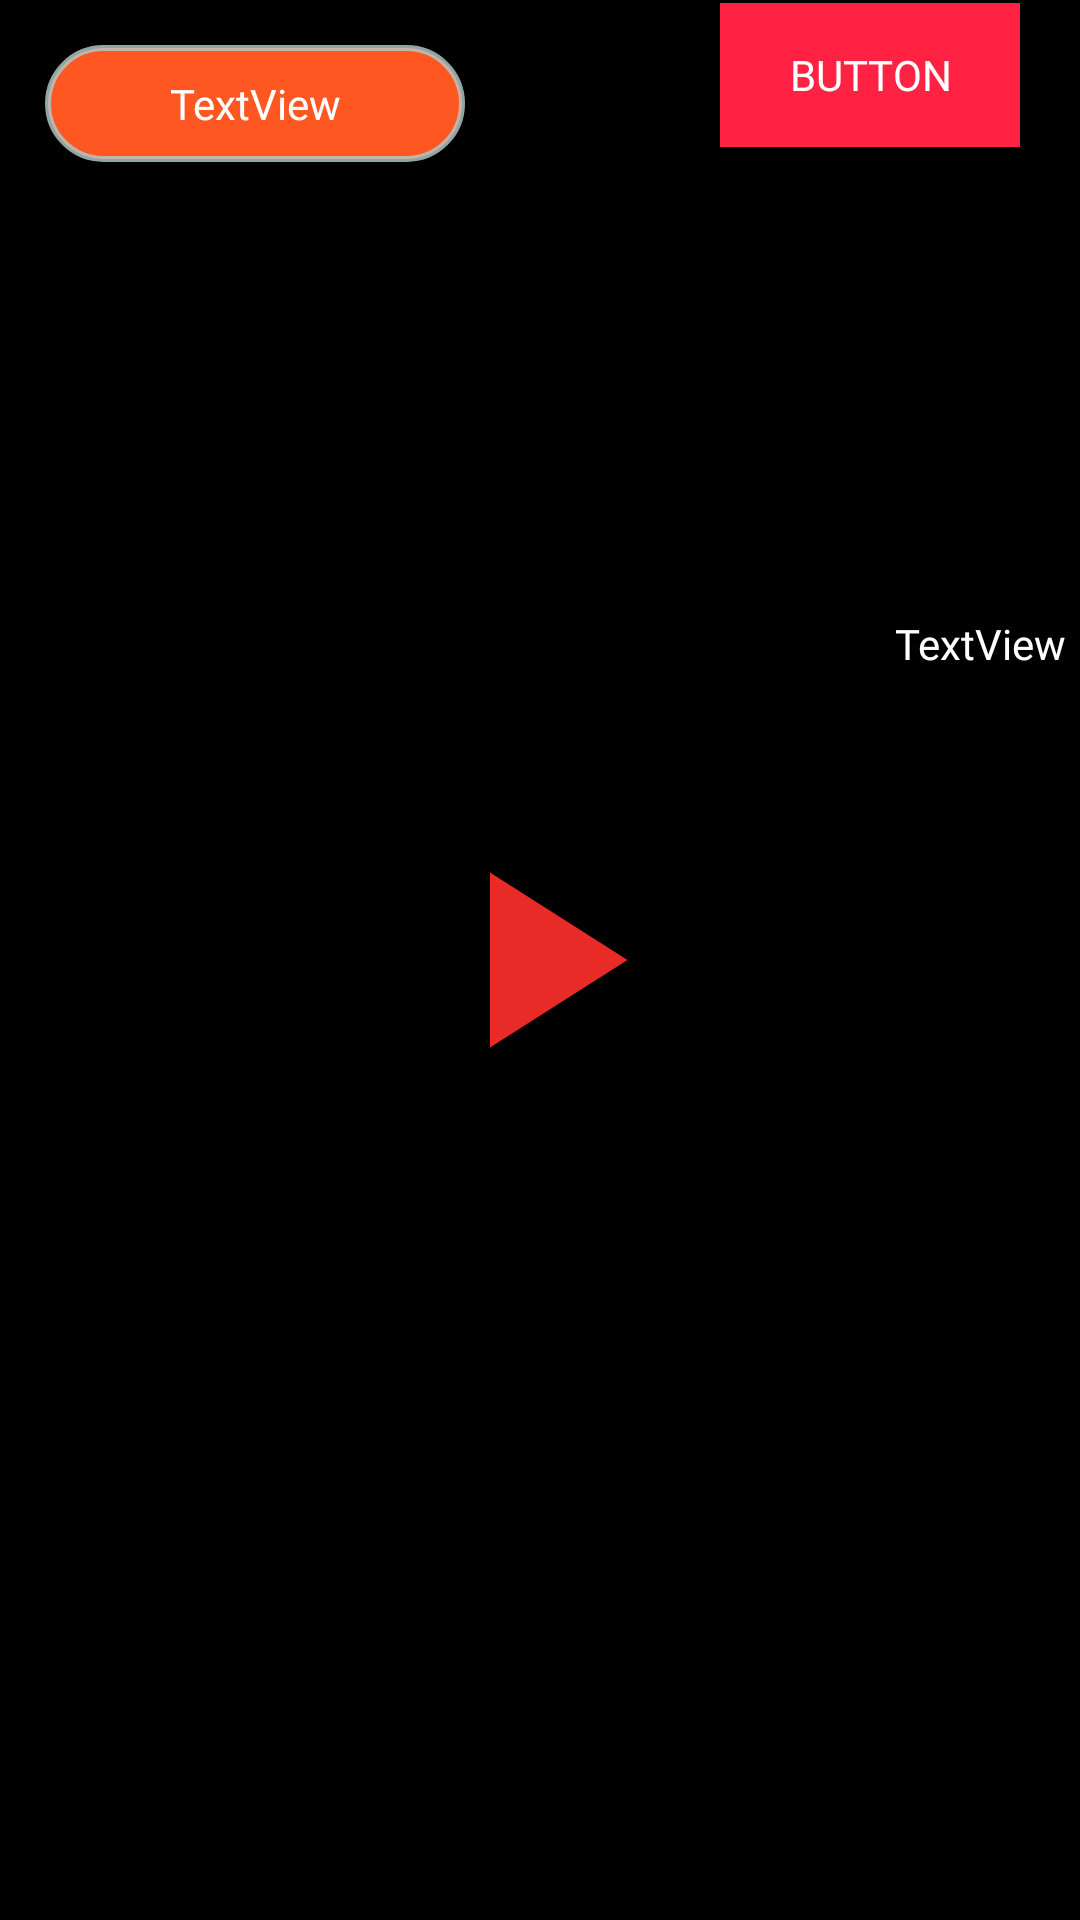

Locate icon controls on the screen. Image size 1080px x 1920px, boxes as box(x1, y1, x2, y2).
play arrow: box(490, 872, 627, 1048)
